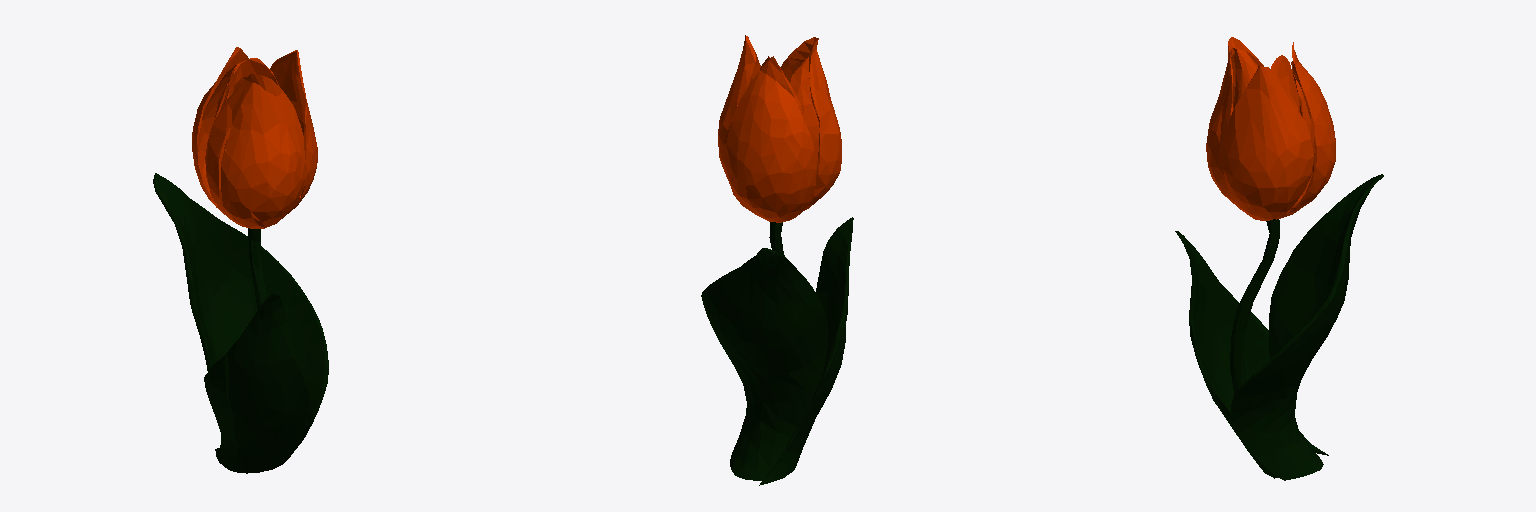
Rendered from tulip.obj.
3 views of the same model, side by side, from view 1: azimuth 30°, elevation 25°; view 2: azimuth 150°, elevation 25°; view 3: azimuth 270°, elevation 25° (orthographic).
Visible parts, largest first — view 1: tulip2; view 2: tulip2; view 3: tulip2.
Boxes of the visible parts, x1,y1,x2,y2 form: tulip2: [153, 47, 328, 473]; tulip2: [701, 35, 853, 485]; tulip2: [1175, 37, 1383, 480].
Size of the model in its own units: 0.4202 by 1.4 by 0.6369.